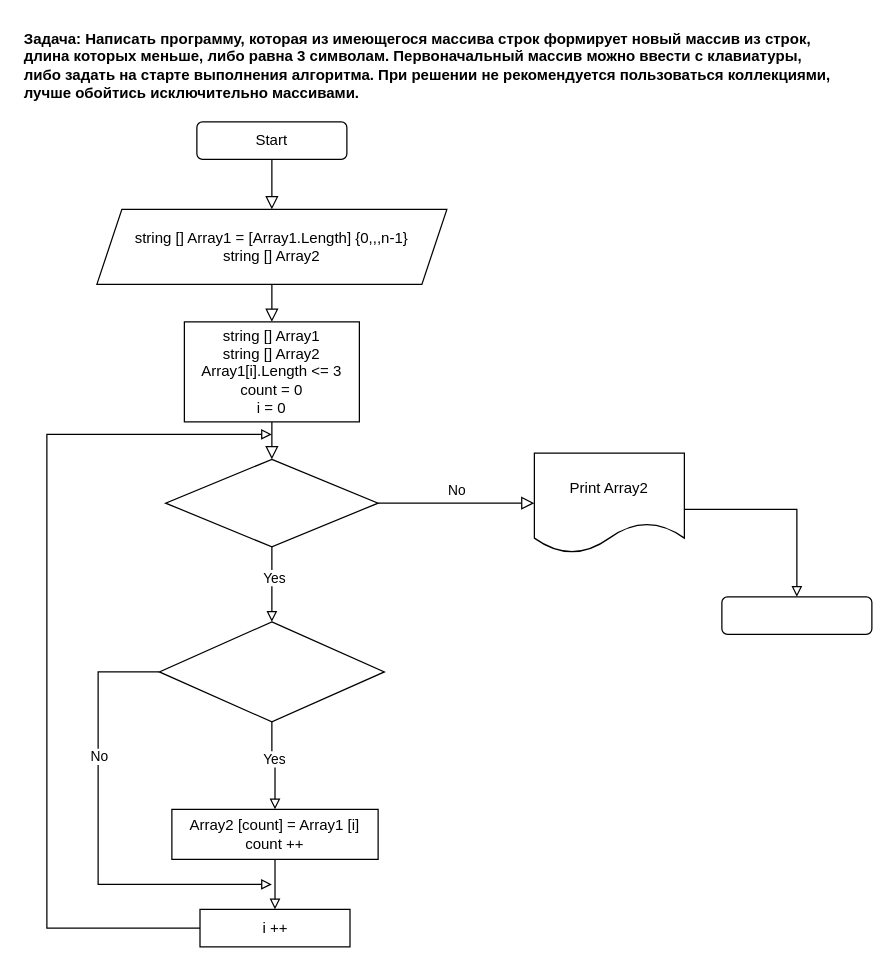
This 894x969 diagram has some shape labels left out. Each missing label, with the centre of its shape:
"Array1[i].Length <= 3" belongs at point 271,671.
"End" belongs at point 796,615.
"i <= Array1.Length" belongs at point 271,502.
